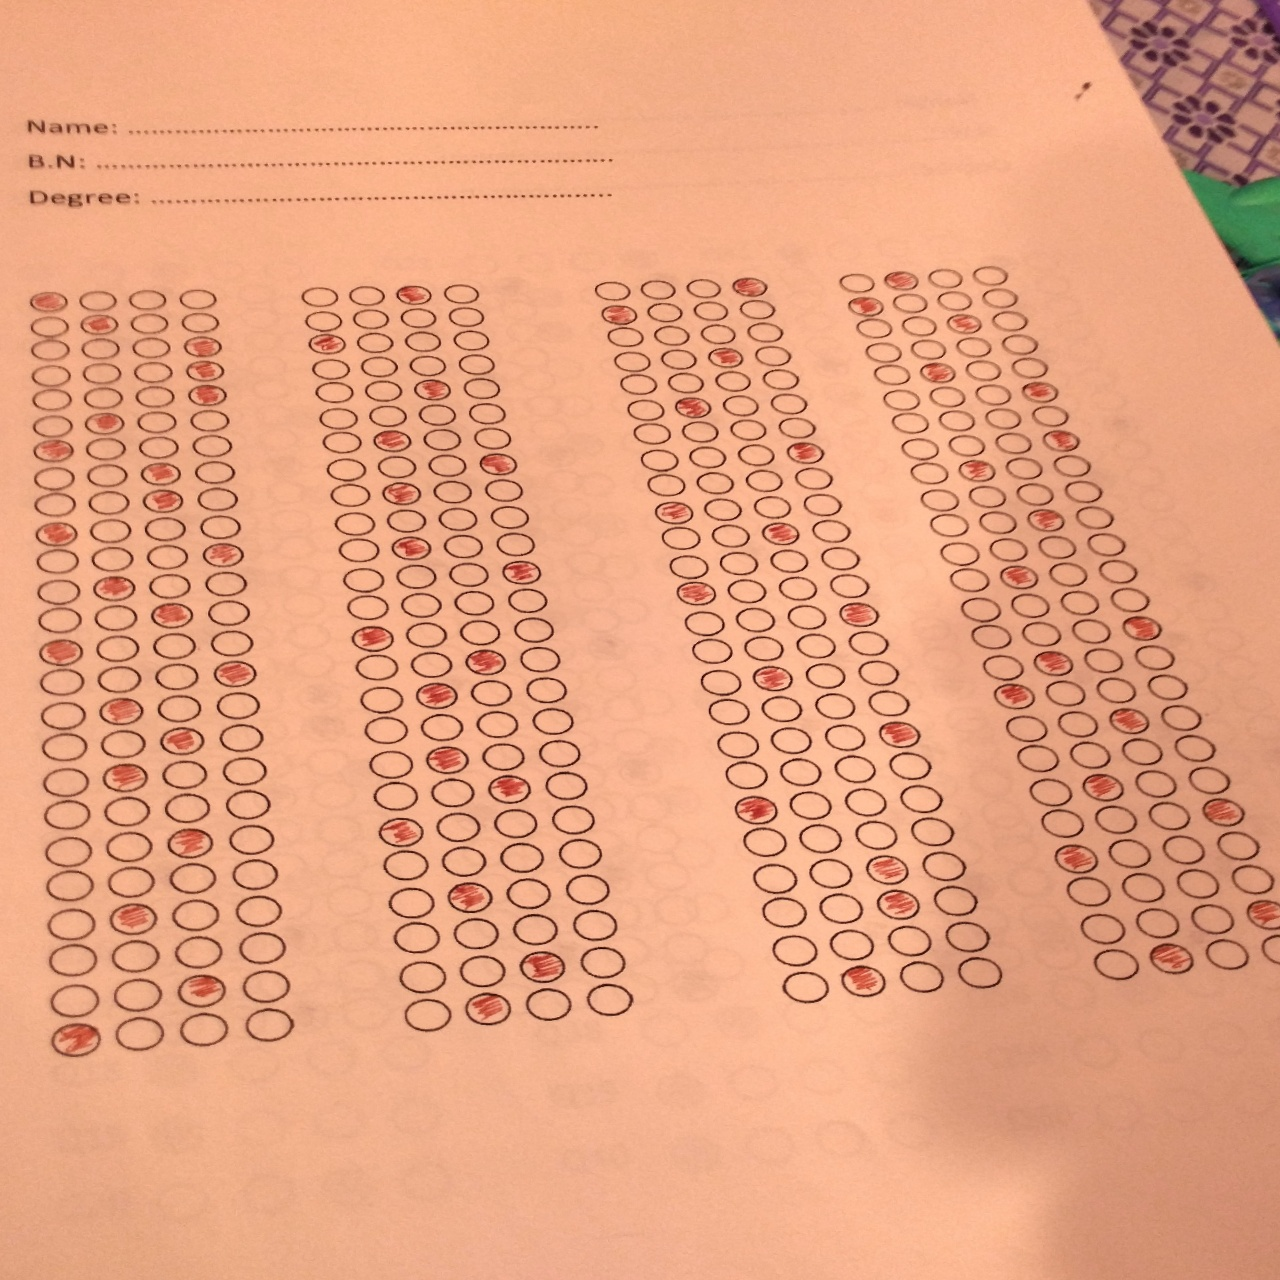not-c: (1077, 908, 1133, 948), (1201, 937, 1257, 976), (241, 1005, 294, 1046), (169, 896, 222, 937), (1085, 945, 1141, 983), (111, 974, 163, 1015), (113, 1012, 164, 1053), (177, 1008, 229, 1049), (1133, 901, 1187, 940), (1189, 899, 1242, 938), (45, 904, 98, 941), (49, 978, 100, 1017), (1062, 874, 1117, 911), (48, 941, 100, 980), (511, 910, 563, 947), (576, 944, 628, 980), (842, 784, 894, 821), (166, 858, 218, 894), (585, 981, 636, 1017), (571, 907, 622, 944), (524, 983, 576, 1020), (388, 885, 440, 921), (457, 951, 509, 987), (896, 959, 947, 995), (824, 924, 876, 960), (813, 890, 865, 926), (769, 931, 821, 967), (98, 794, 151, 829), (747, 860, 799, 896), (955, 954, 1006, 990), (437, 840, 488, 877), (504, 874, 554, 911), (397, 958, 448, 994), (805, 856, 856, 892), (886, 924, 937, 960), (942, 915, 993, 952), (894, 779, 945, 816), (495, 839, 546, 874), (392, 919, 443, 954), (758, 896, 810, 931), (779, 968, 831, 1003), (908, 815, 960, 850), (919, 847, 971, 883), (380, 847, 433, 881), (173, 933, 223, 969), (232, 856, 281, 892), (104, 865, 154, 901), (554, 835, 605, 870), (560, 870, 611, 905), (452, 914, 503, 949), (855, 813, 905, 849), (886, 749, 937, 784), (928, 883, 979, 918), (402, 998, 454, 1032), (227, 821, 275, 857), (105, 828, 154, 864), (241, 968, 290, 1005), (111, 938, 159, 974), (238, 927, 287, 962), (234, 894, 284, 930), (45, 866, 94, 901), (98, 726, 149, 760), (38, 663, 86, 699), (151, 629, 200, 663), (91, 632, 144, 663), (40, 731, 90, 764), (42, 765, 90, 799), (45, 835, 93, 869), (207, 626, 258, 658), (224, 787, 271, 821), (162, 790, 209, 824), (155, 692, 202, 726), (205, 595, 253, 628), (149, 660, 197, 693), (40, 797, 89, 829), (397, 588, 444, 621), (40, 697, 87, 730), (1013, 740, 1060, 772), (1121, 870, 1167, 903), (1020, 618, 1067, 651), (1213, 828, 1260, 860), (535, 738, 583, 770), (527, 706, 576, 737), (159, 760, 207, 791), (1053, 706, 1101, 737), (1041, 678, 1089, 709), (765, 726, 811, 758), (474, 709, 520, 741), (468, 678, 515, 709), (549, 802, 595, 833), (719, 760, 765, 791), (689, 638, 736, 669), (418, 712, 465, 743), (493, 808, 540, 839), (795, 822, 842, 853), (789, 790, 836, 822), (219, 754, 266, 785), (372, 779, 418, 811), (361, 714, 408, 745), (358, 685, 404, 716), (350, 652, 397, 683), (96, 663, 143, 695), (999, 713, 1046, 744), (1037, 808, 1084, 839), (845, 624, 892, 655), (1026, 775, 1073, 806), (1227, 863, 1274, 894), (1094, 803, 1141, 835), (1007, 590, 1054, 621), (1080, 645, 1126, 676), (1094, 673, 1141, 704), (1132, 767, 1179, 798), (1141, 669, 1187, 701), (1104, 583, 1151, 614), (823, 568, 870, 600), (1046, 559, 1092, 591), (452, 617, 503, 646), (520, 675, 568, 706), (704, 695, 753, 726), (823, 722, 871, 753), (888, 751, 937, 782), (1092, 554, 1141, 585), (481, 741, 526, 772), (730, 604, 776, 635), (428, 775, 474, 806), (776, 755, 822, 787), (770, 726, 816, 757), (867, 687, 913, 719), (1104, 837, 1150, 869), (1065, 740, 1111, 771), (978, 651, 1023, 682), (946, 563, 992, 594), (937, 536, 982, 567), (544, 770, 591, 801), (758, 695, 805, 726), (740, 828, 787, 858), (715, 729, 762, 760), (697, 667, 744, 697), (433, 811, 479, 842), (785, 602, 832, 633), (774, 572, 821, 602), (213, 689, 260, 720), (366, 744, 413, 775), (856, 656, 903, 687), (812, 690, 859, 721), (830, 753, 877, 783), (1176, 867, 1223, 898), (1159, 833, 1206, 864), (1118, 737, 1165, 768), (1186, 764, 1233, 795), (1158, 701, 1205, 731), (1078, 527, 1125, 558), (1069, 617, 1116, 647), (1058, 588, 1105, 619), (742, 634, 788, 665), (217, 722, 263, 753), (409, 648, 455, 679), (403, 620, 449, 651), (966, 621, 1012, 652), (955, 594, 1001, 625), (1144, 798, 1190, 829), (1173, 731, 1219, 762), (1129, 640, 1175, 670), (819, 540, 865, 571), (94, 600, 137, 632), (450, 587, 495, 618), (395, 563, 441, 592), (510, 614, 554, 644), (360, 377, 406, 406), (915, 489, 958, 519), (147, 542, 190, 571), (517, 645, 560, 674), (365, 402, 411, 429), (353, 329, 400, 356), (334, 536, 381, 563), (331, 510, 377, 537), (32, 463, 79, 490), (86, 489, 132, 516), (38, 606, 84, 633), (175, 282, 219, 311), (125, 285, 170, 313), (973, 506, 1017, 535), (986, 531, 1027, 561), (1032, 400, 1073, 430), (802, 660, 844, 689), (794, 631, 836, 660), (297, 282, 342, 309), (308, 356, 354, 383), (374, 454, 420, 481), (311, 381, 356, 408), (33, 547, 79, 574), (29, 387, 75, 414), (30, 362, 76, 389), (26, 338, 72, 365), (147, 572, 192, 599), (81, 436, 127, 463), (77, 387, 123, 414), (36, 578, 82, 605), (384, 508, 430, 535), (191, 458, 234, 486), (79, 333, 122, 361), (76, 287, 120, 315), (1034, 531, 1074, 561), (1075, 501, 1116, 530), (1053, 451, 1094, 481), (1064, 478, 1105, 508), (193, 486, 238, 513), (683, 272, 728, 299), (592, 274, 636, 301), (442, 277, 486, 304), (342, 280, 387, 307), (128, 334, 172, 361), (204, 570, 248, 597), (347, 593, 392, 620), (341, 565, 386, 592), (329, 482, 374, 509), (34, 490, 79, 517), (28, 411, 73, 438), (358, 354, 403, 380), (347, 307, 393, 333), (326, 457, 372, 483), (319, 427, 365, 452), (86, 518, 131, 544), (86, 462, 131, 488), (131, 360, 175, 387), (197, 515, 240, 542), (132, 383, 176, 410), (447, 561, 490, 588), (682, 610, 726, 636), (178, 309, 222, 336), (1015, 481, 1056, 509), (188, 409, 232, 435), (26, 313, 70, 339), (316, 404, 361, 430), (89, 547, 134, 573), (790, 463, 835, 489), (605, 324, 647, 350), (302, 306, 345, 333), (907, 459, 949, 486), (897, 433, 939, 459), (946, 433, 988, 459), (188, 433, 231, 458), (127, 312, 170, 338), (735, 441, 778, 467), (678, 418, 721, 444), (965, 358, 1008, 383), (1002, 455, 1046, 481), (144, 515, 185, 542), (708, 524, 753, 549), (397, 305, 440, 331), (467, 400, 509, 425), (420, 427, 462, 452), (615, 372, 658, 397), (636, 445, 679, 471), (678, 418, 720, 444), (744, 468, 787, 493), (717, 550, 760, 576), (760, 367, 802, 393), (879, 386, 921, 411), (994, 428, 1036, 454), (965, 485, 1007, 511), (1009, 353, 1051, 379), (978, 284, 1020, 309), (447, 327, 492, 350), (454, 353, 497, 377), (504, 588, 547, 613), (462, 377, 505, 402), (431, 479, 475, 504), (443, 532, 486, 557), (435, 504, 478, 529), (658, 525, 701, 550), (749, 493, 792, 518), (799, 492, 843, 517), (774, 415, 817, 440), (753, 342, 796, 367), (926, 382, 969, 407), (719, 392, 760, 417), (937, 407, 978, 433), (971, 263, 1012, 288), (417, 401, 459, 425), (408, 353, 450, 377), (486, 504, 529, 529), (632, 420, 674, 444), (625, 396, 667, 421), (656, 347, 699, 372), (667, 554, 709, 579), (715, 369, 757, 394), (726, 578, 768, 602), (702, 498, 744, 523), (810, 517, 852, 542), (971, 382, 1013, 407), (999, 331, 1041, 355), (437, 506, 481, 530), (427, 452, 470, 476), (610, 350, 653, 374), (645, 472, 688, 496), (745, 321, 789, 345), (927, 512, 971, 536), (862, 342, 905, 366), (81, 362, 122, 387), (663, 369, 704, 394), (692, 471, 733, 496), (888, 409, 930, 434), (983, 406, 1024, 430), (493, 531, 536, 554), (482, 479, 524, 503), (728, 417, 770, 441), (686, 445, 728, 469), (765, 390, 808, 414), (769, 549, 811, 572), (869, 362, 911, 386), (445, 305, 486, 328), (404, 329, 445, 353), (474, 424, 515, 448), (835, 271, 876, 294), (134, 360, 172, 384), (138, 435, 177, 459), (136, 410, 176, 434), (644, 300, 683, 324), (737, 298, 777, 321), (690, 298, 730, 321), (636, 277, 678, 299), (926, 266, 967, 288), (990, 309, 1032, 332), (953, 335, 994, 358), (934, 287, 975, 309), (899, 314, 940, 336), (907, 338, 949, 359), (853, 316, 894, 338), (888, 291, 930, 312), (699, 321, 737, 343), (652, 325, 690, 347), (1260, 937, 1280, 965)
taken-c: (461, 986, 515, 1028), (48, 1020, 107, 1058), (173, 971, 229, 1008), (1146, 940, 1201, 978), (835, 964, 891, 1000), (871, 886, 927, 922), (516, 947, 571, 983), (107, 901, 162, 937), (1049, 840, 1099, 876), (874, 719, 926, 753), (91, 696, 149, 727), (166, 824, 215, 859), (864, 853, 915, 885), (448, 880, 497, 913), (1028, 647, 1077, 680), (346, 622, 396, 654), (1104, 704, 1152, 737), (1200, 795, 1248, 828), (1077, 771, 1126, 803), (210, 658, 258, 689), (376, 816, 425, 846), (98, 761, 148, 791), (831, 600, 881, 629), (993, 680, 1039, 712), (90, 573, 139, 602), (33, 518, 80, 549), (1118, 613, 1165, 644), (73, 311, 123, 339), (463, 648, 511, 678), (486, 775, 535, 804), (425, 744, 474, 774), (731, 794, 779, 823), (996, 561, 1044, 591), (416, 682, 463, 712), (1244, 894, 1280, 932), (392, 279, 440, 307), (159, 726, 207, 754), (38, 636, 83, 666), (79, 409, 128, 436), (25, 288, 73, 315), (135, 459, 182, 486), (150, 601, 195, 629), (749, 665, 795, 692), (954, 457, 1000, 484), (704, 343, 748, 372), (185, 382, 229, 410), (380, 481, 424, 508), (760, 520, 804, 547), (476, 451, 524, 476), (142, 489, 188, 515), (199, 540, 245, 566), (915, 359, 961, 384), (729, 273, 772, 300), (784, 440, 828, 467), (183, 358, 226, 384), (598, 301, 642, 327), (182, 333, 226, 359), (670, 394, 715, 420), (674, 581, 719, 607), (653, 499, 697, 525), (498, 559, 543, 585), (1039, 427, 1083, 452), (390, 535, 433, 561), (305, 332, 350, 356), (27, 438, 73, 463), (1027, 506, 1067, 535), (369, 429, 415, 452), (945, 309, 988, 334), (1019, 380, 1064, 402), (411, 377, 452, 402), (842, 294, 886, 316), (879, 268, 922, 291)
